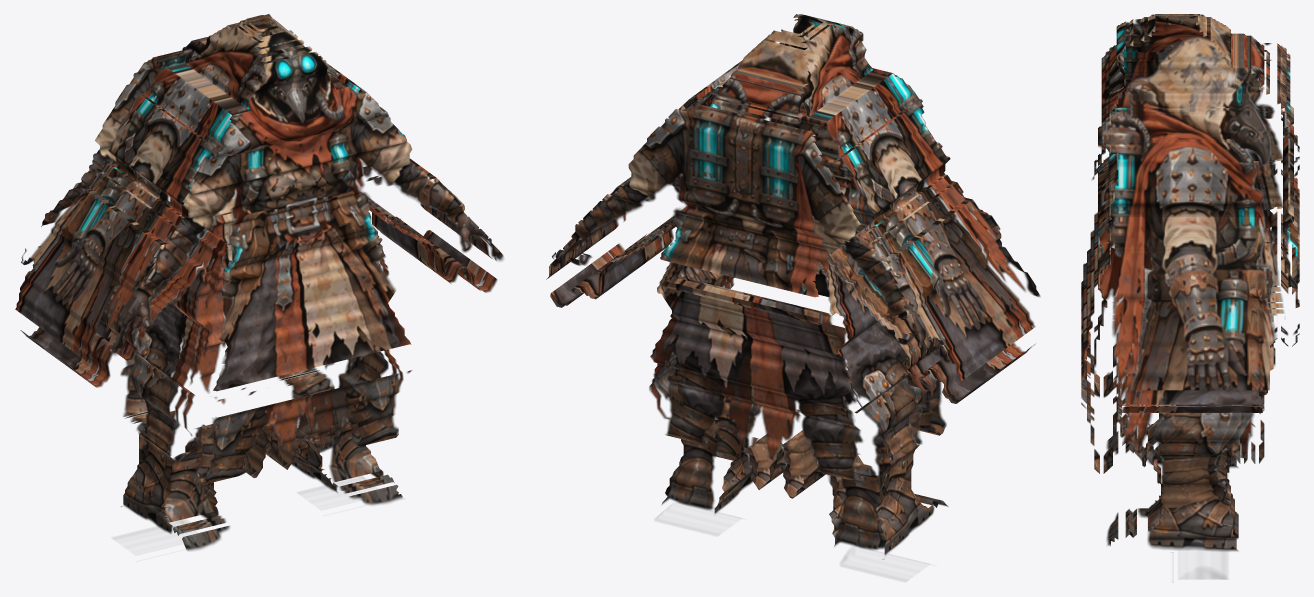
Rendered from ashland-survivor-hull-r2.glb.
3 renders of one model, left to right at view 1: azimuth 30°, elevation 25°; view 2: azimuth 150°, elevation 25°; view 3: azimuth 270°, elevation 25°, orthographic.
Visible parts, largest first — view 1: ASHLAND | Survivor visual hull; view 2: ASHLAND | Survivor visual hull; view 3: ASHLAND | Survivor visual hull.
Boxes of the visible parts, <box> form: ASHLAND | Survivor visual hull: <box>15,14,503,550</box>; ASHLAND | Survivor visual hull: <box>546,14,1040,562</box>; ASHLAND | Survivor visual hull: <box>1081,14,1299,579</box>.
Size of the model in its own units: 0.8158 by 0.9591 by 0.3744.
Materials: 4 (4 with a texture image).
